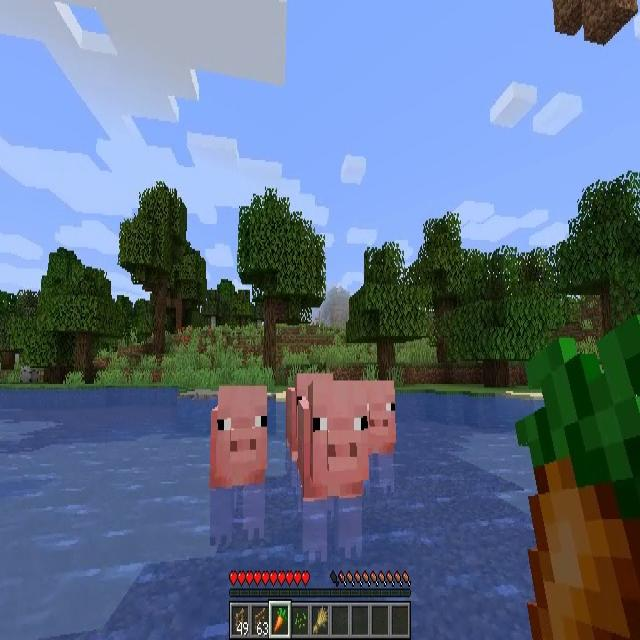pig: (301, 380, 362, 562), (209, 386, 265, 550), (285, 372, 333, 494), (357, 381, 397, 498)
